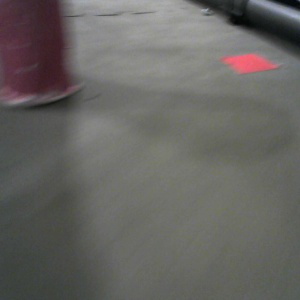Middle: (1, 1, 83, 109)
